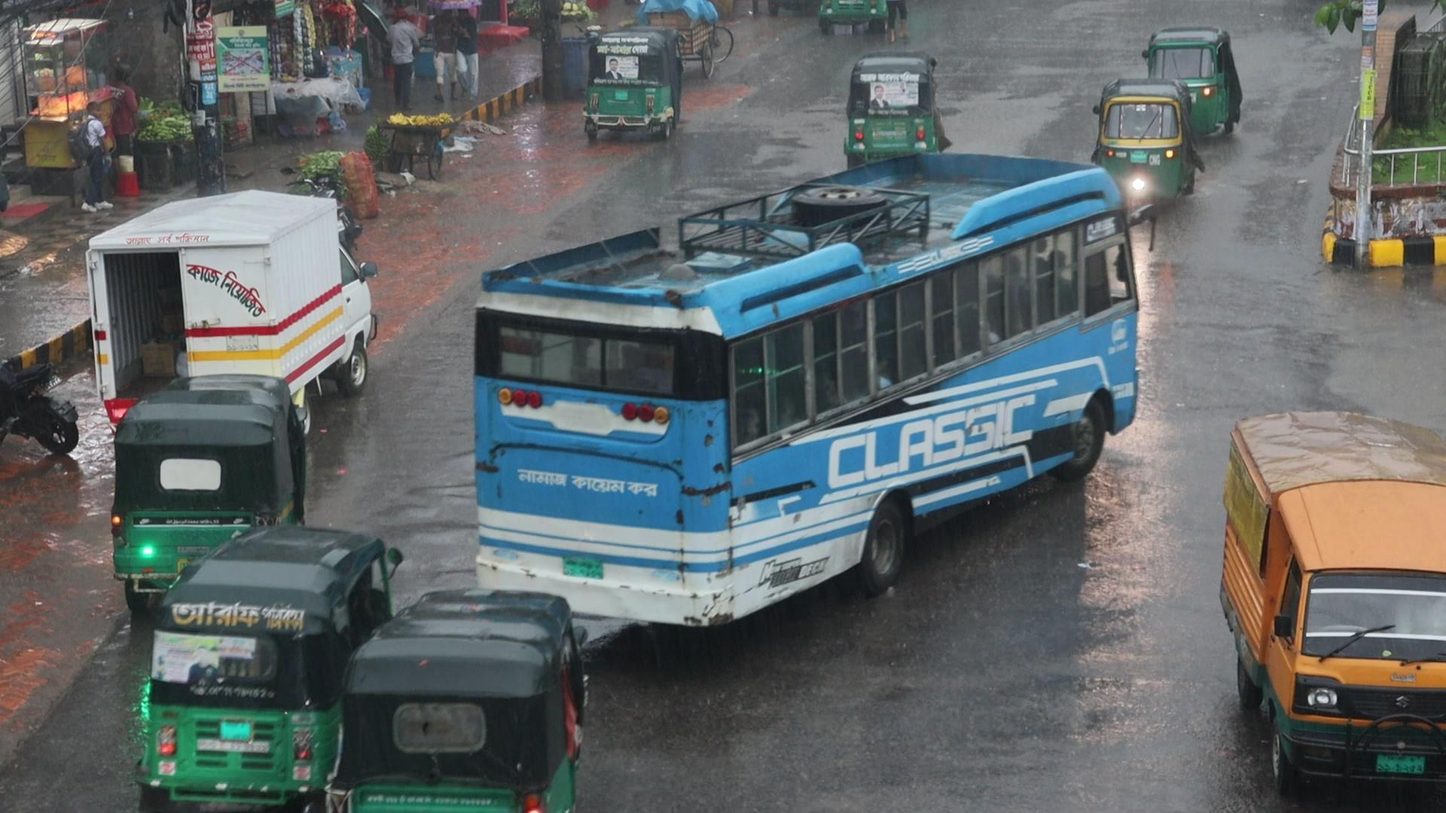Bus: (467, 141, 1143, 627)
Truck: (1216, 405, 1446, 795)
